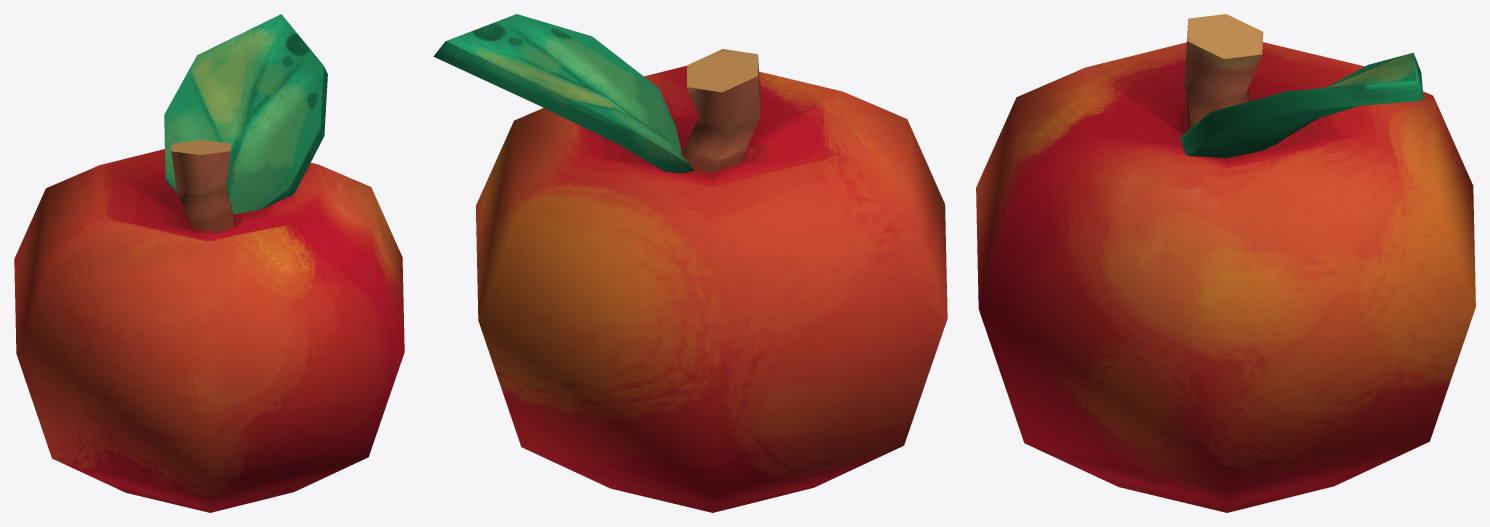
File: apple.fbx
3 renders of one model, left to right at view 1: azimuth 30°, elevation 25°; view 2: azimuth 150°, elevation 25°; view 3: azimuth 270°, elevation 25°, orthographic. The views are drawn at different scales.
Parts seen in each view (by area): view 1: Plane.001; view 2: Plane.001; view 3: Plane.001.
Part boxes in pixels (box(x1,y1,x2,y2)): Plane.001: box(14, 14, 404, 512); Plane.001: box(433, 14, 947, 512); Plane.001: box(976, 14, 1475, 512).
Size of the model in its own units: 245 by 222 by 213.
1 material, 1 textured.
